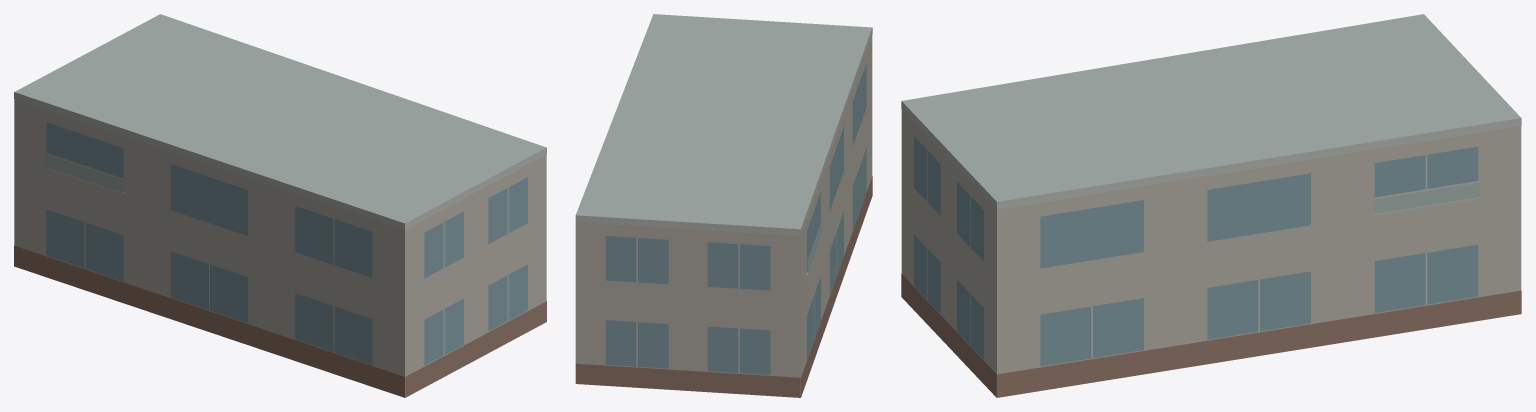
Rendered from survey-upis-32698465.glb.
3 renders of one model, left to right at view 1: azimuth 30°, elevation 25°; view 2: azimuth 150°, elevation 25°; view 3: azimuth 270°, elevation 25°, orthographic. The views are drawn at different scales.
Parts seen in each view (by area): view 1: survey-upis-32698465.tmp; view 2: survey-upis-32698465.tmp; view 3: survey-upis-32698465.tmp.
Part boxes in pixels (x1,y1,x2,y2): survey-upis-32698465.tmp: [14, 14, 546, 397]; survey-upis-32698465.tmp: [575, 14, 872, 397]; survey-upis-32698465.tmp: [901, 14, 1521, 397].
Size of the model in its own units: 12.55 by 6.1 by 17.5.
